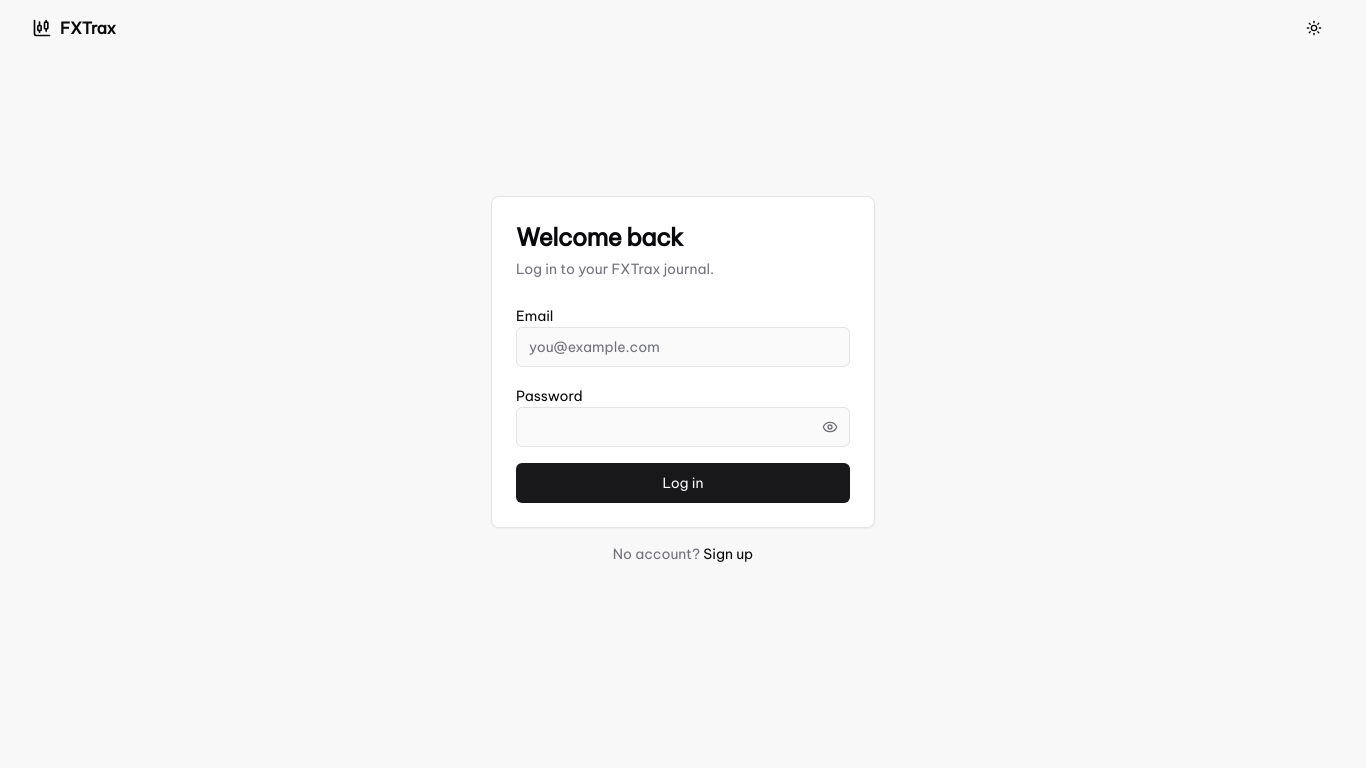
Test: login page › tells the user to confirm their email when the backend says it isn't confirmed
Type "trader@example.com" into the field labelled "Email" at (683, 347), box x1=516 y1=327 x2=850 y2=367
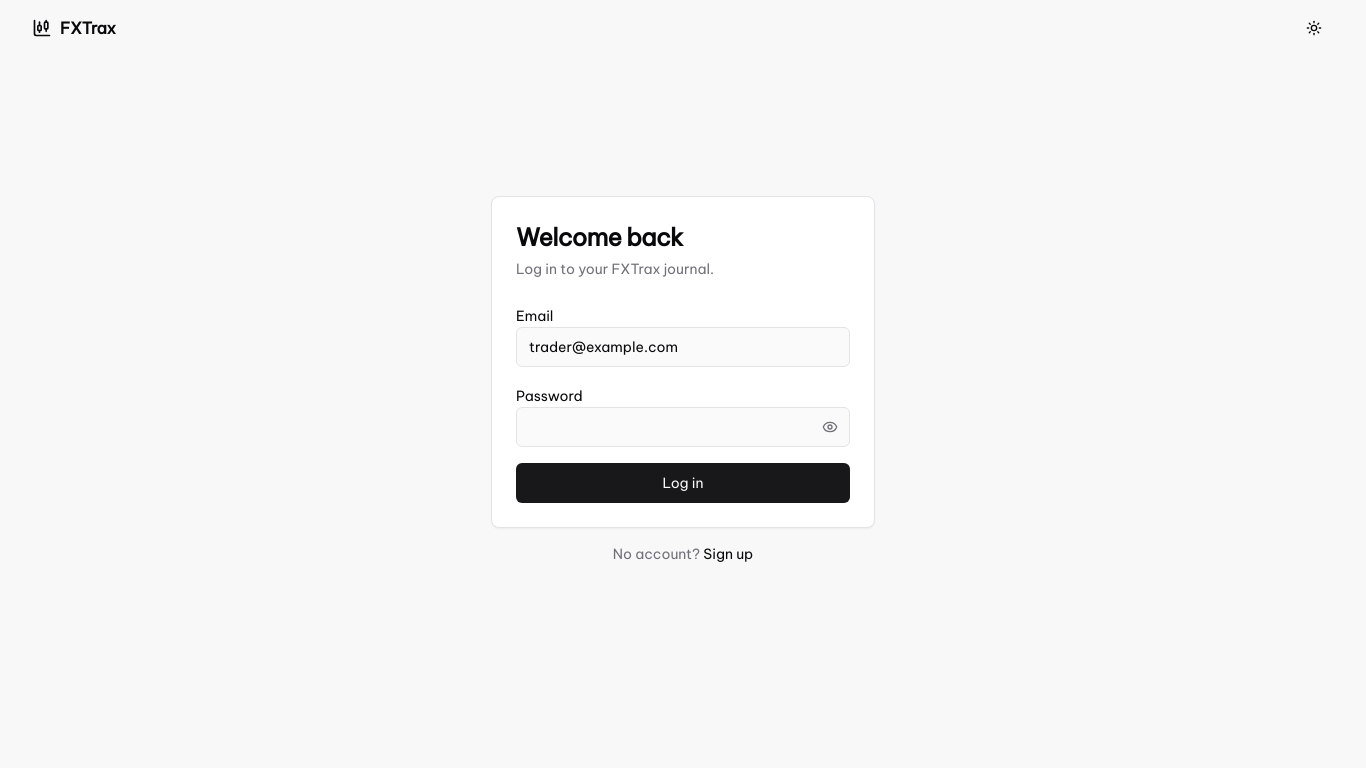
Type "secret123" into the password field labelled "Password" at (683, 427), box x1=516 y1=407 x2=850 y2=447
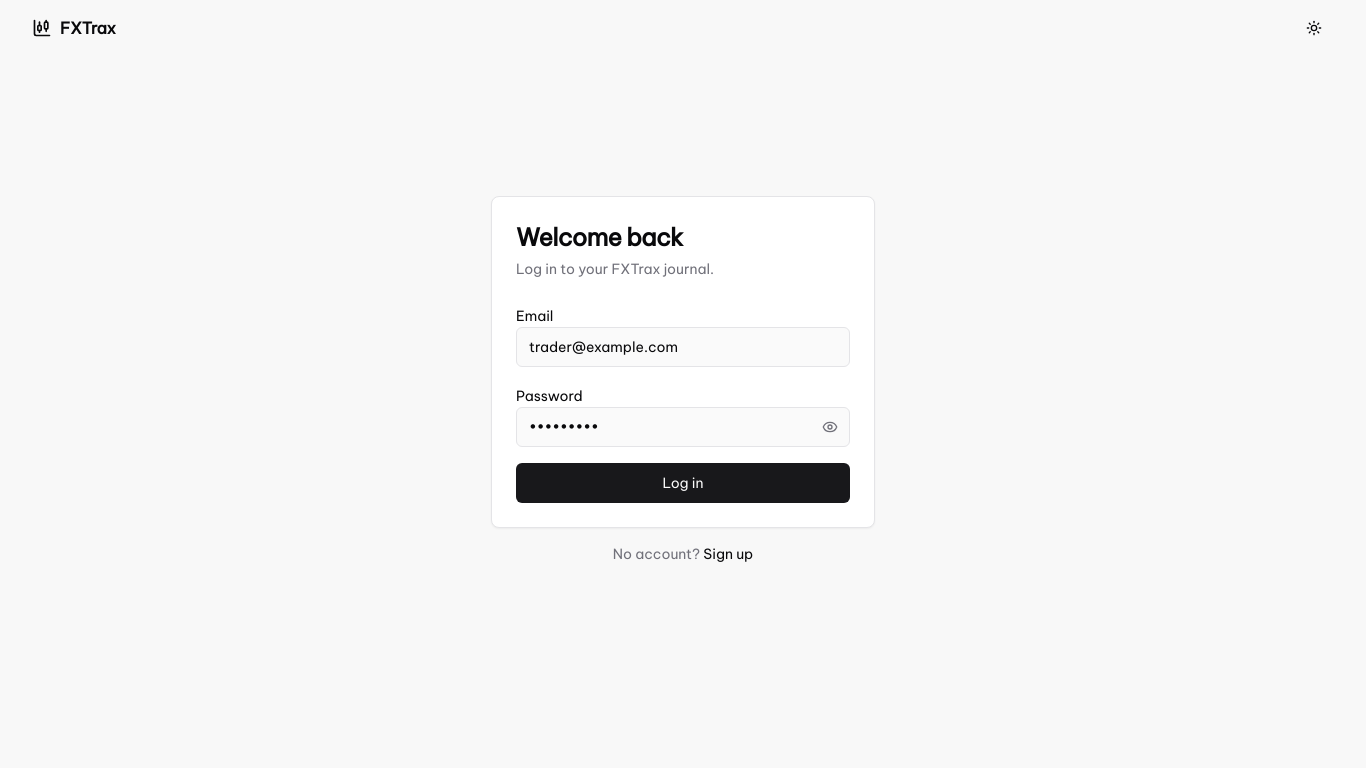
Click the button "Log in" at (683, 483), box x1=516 y1=463 x2=850 y2=503
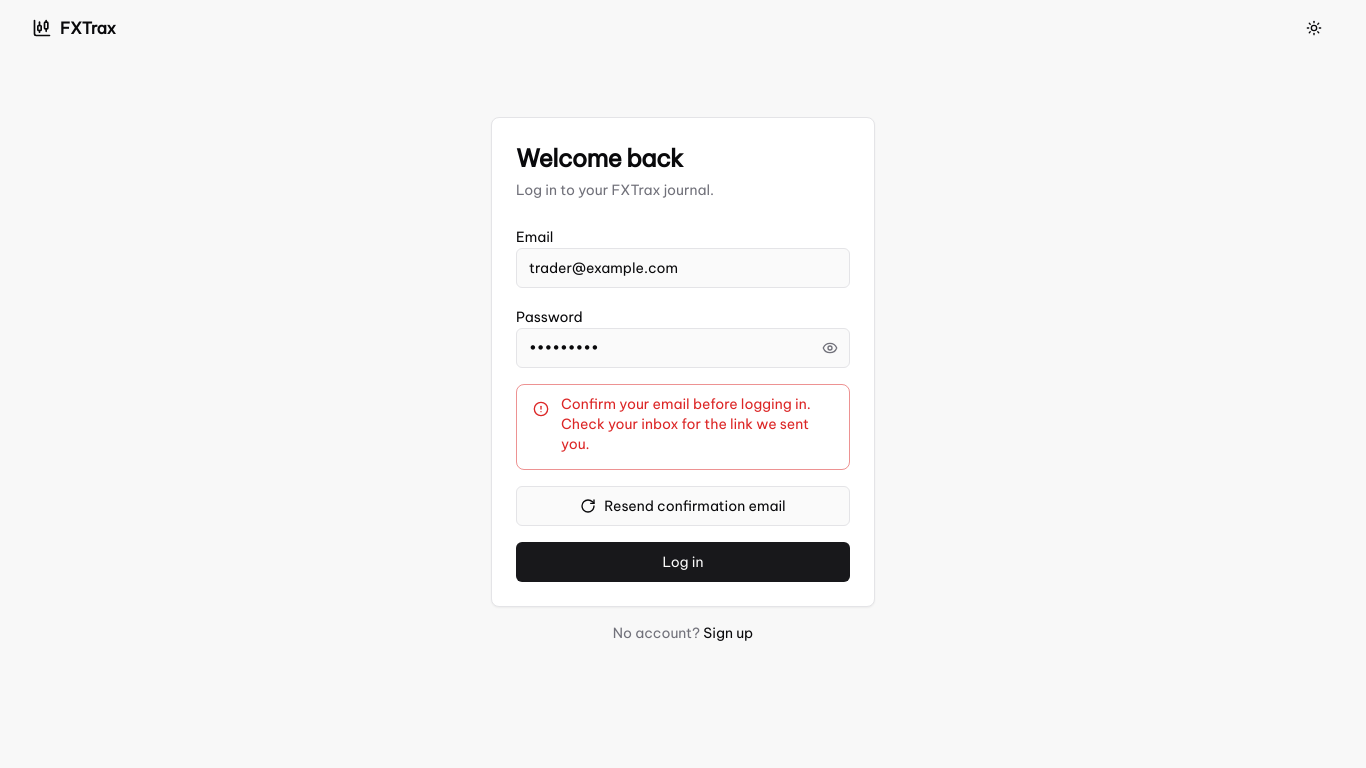
Check: the message shows "Confirm your email before logging in", box x1=561 y1=395 x2=811 y2=453
